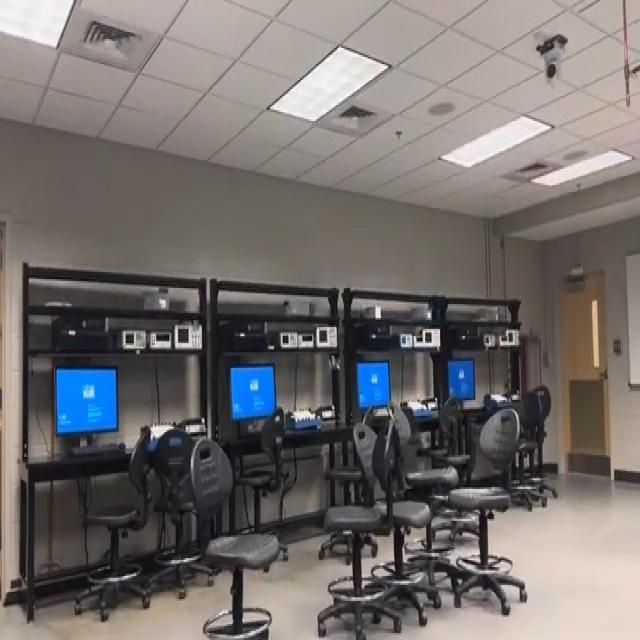drone: (317, 344, 348, 383)
